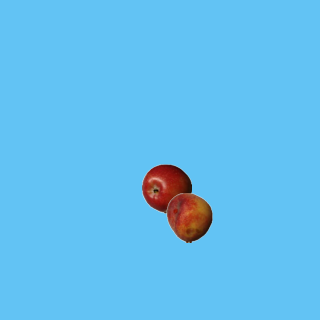Apple Braeburn: (141, 163, 191, 213)
Peach: (164, 192, 214, 242)
